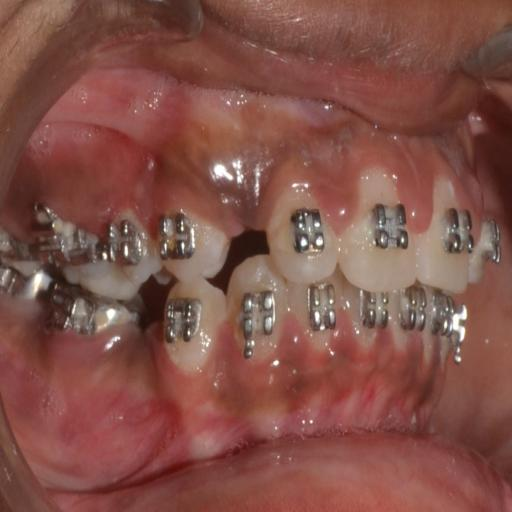correct_brace: (160, 277, 226, 381), (153, 202, 229, 282), (362, 199, 414, 256), (161, 292, 207, 350), (286, 202, 327, 263)
incorrect_brace: (260, 183, 340, 284), (152, 208, 202, 268)
